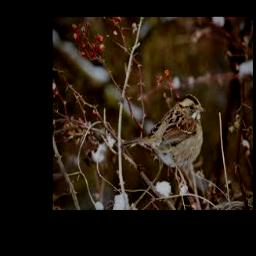Sparrow: (121, 94, 207, 178)
